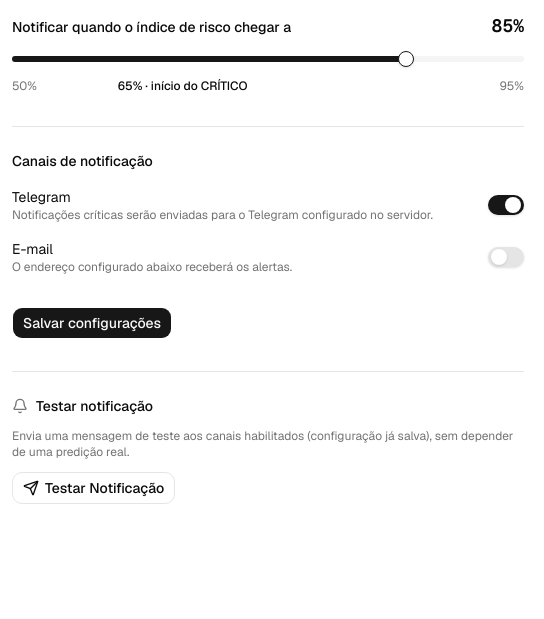
Test: AlertSettingsForm › habilita e-mail e mostra o campo de endereço
Expected: the field labelled "e-mail para receber alertas" is not shown
Click the switch named "ativar notificações por e-mail" at (506, 257), box [488, 247, 524, 267]
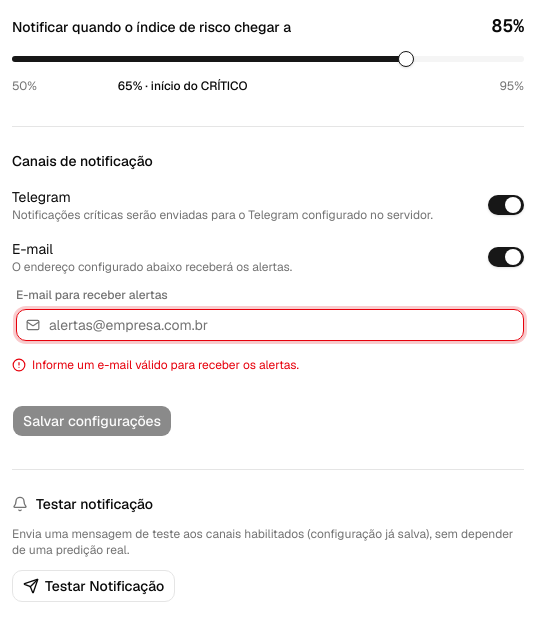
Expected: the field labelled "E-mail para receber alertas" is shown, [16, 309, 524, 341]
